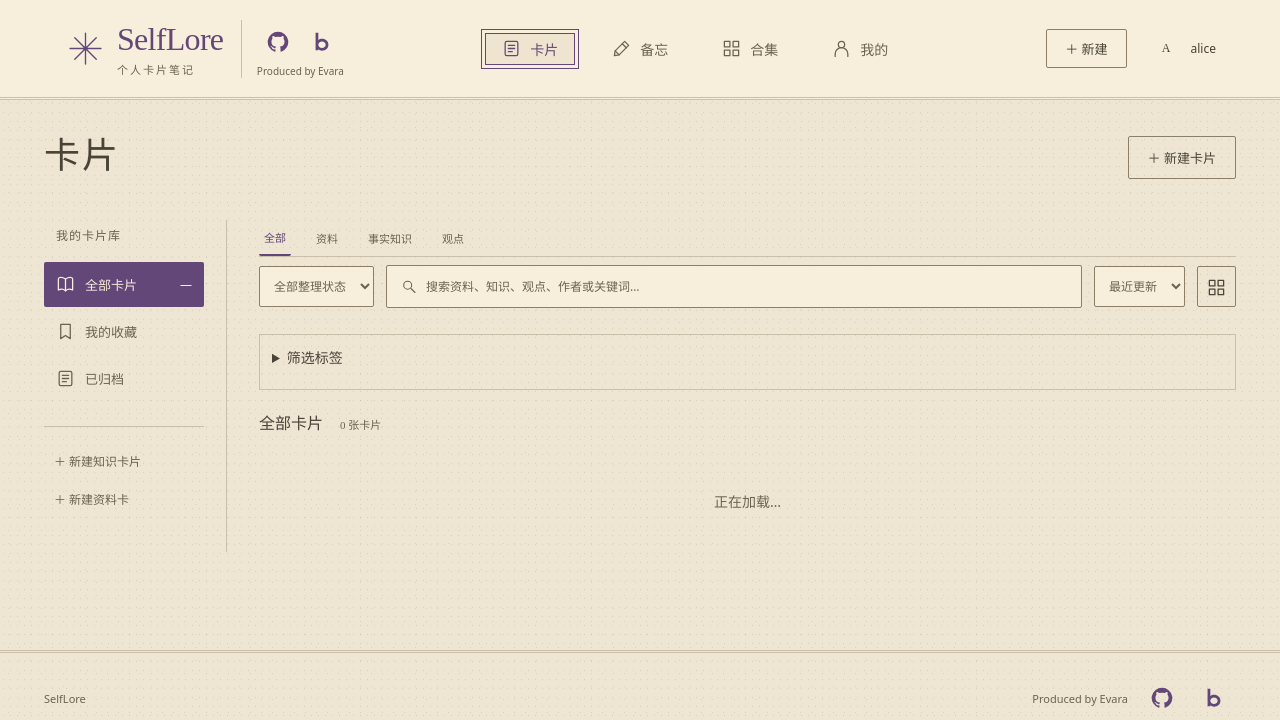
Test: member can open account and logout resets the interface
This screenshot has width=1280, height=720.
Click the button "A alice".
click(1183, 48)  # box 1150,32 -> 1216,65
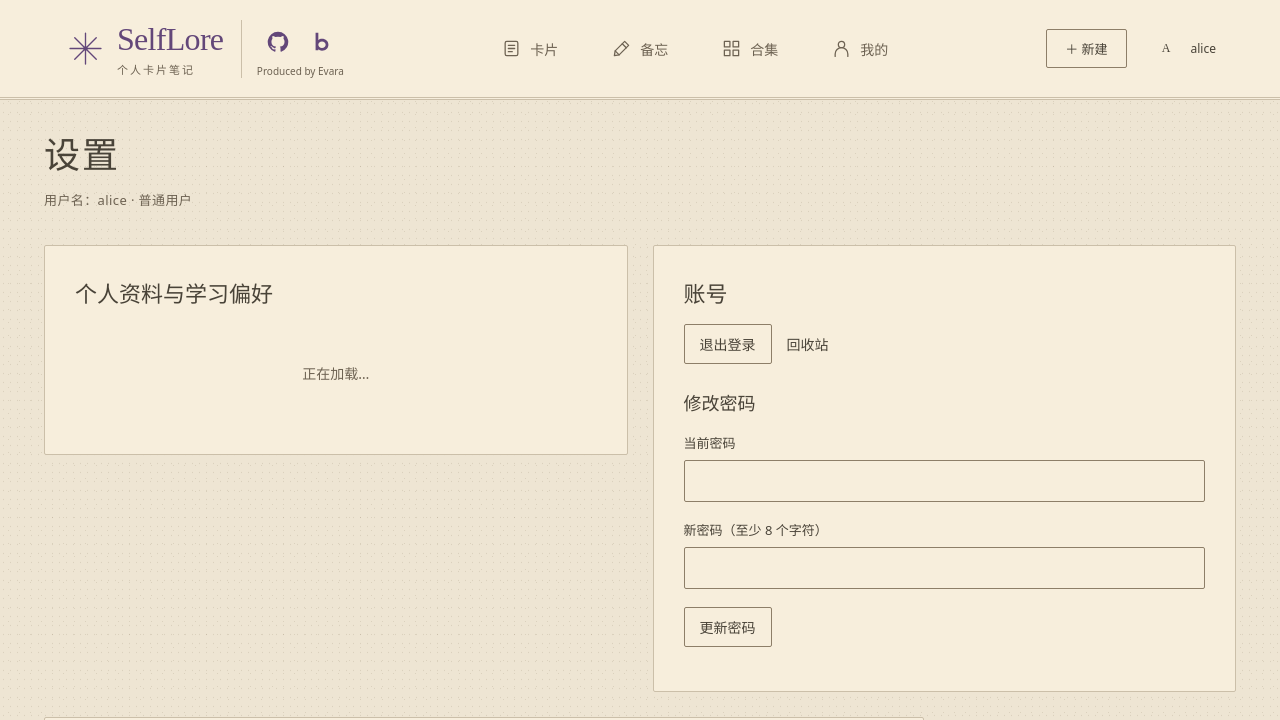
expect the password field labelled "新密码（至少 8 个字符）" has attribute minlength="8": met, box 684,547 -> 1205,589
Click the button "退出登录".
click(728, 344)  # box 684,324 -> 772,364
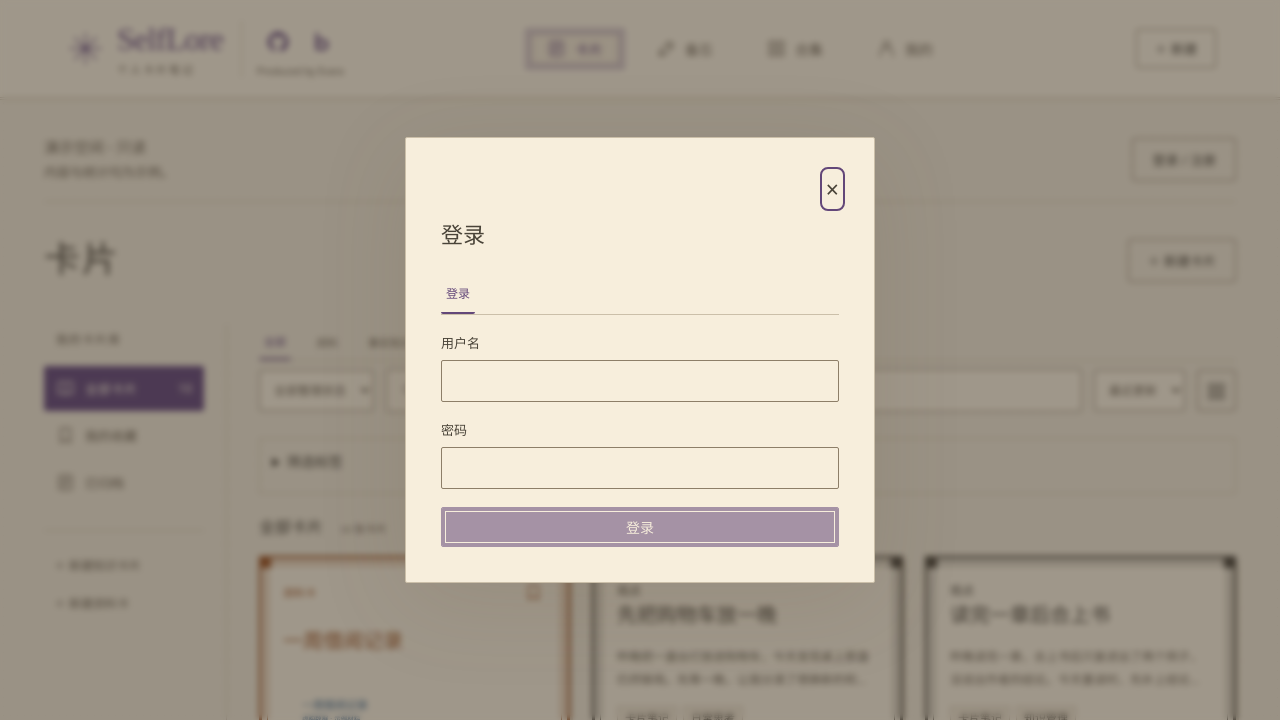
expect the button "登录 / 注册" is shown: met, box 1132,138 -> 1236,181
